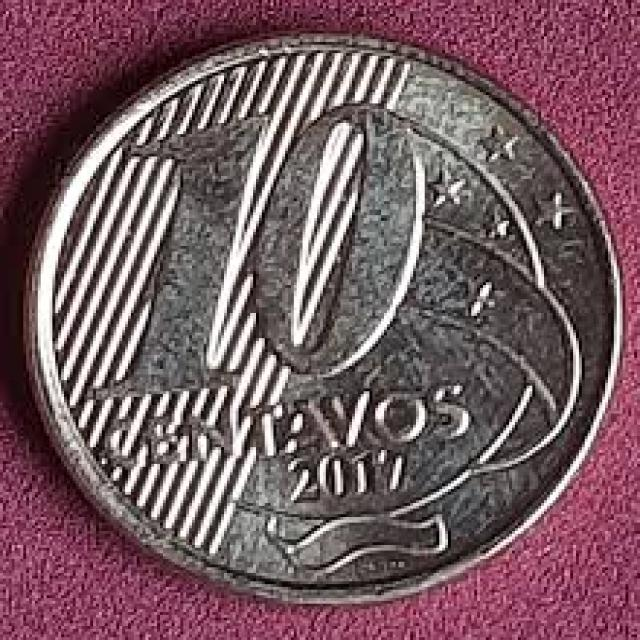10 cent: (43, 26, 616, 595)
